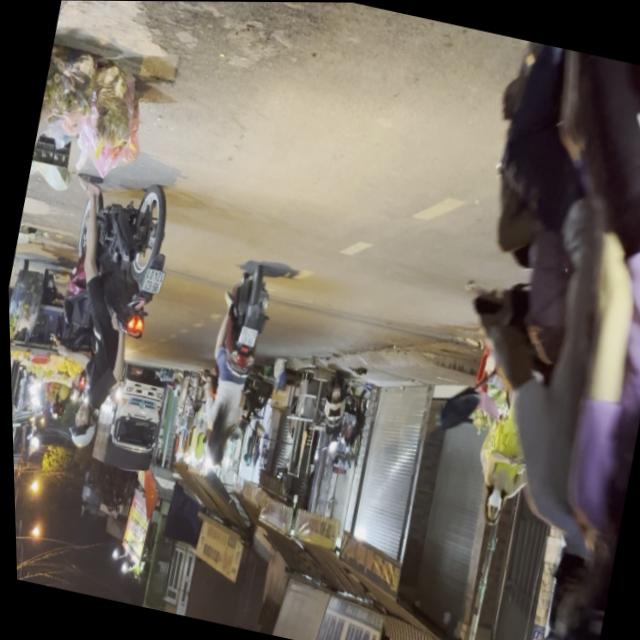helmet: (525, 540, 613, 640), (62, 403, 98, 452)
licenseplate: (374, 40, 640, 640), (22, 169, 187, 464), (183, 261, 281, 479)
motorcyclist: (200, 425, 229, 469)
nohelmet: (136, 268, 163, 296), (237, 327, 256, 348)
